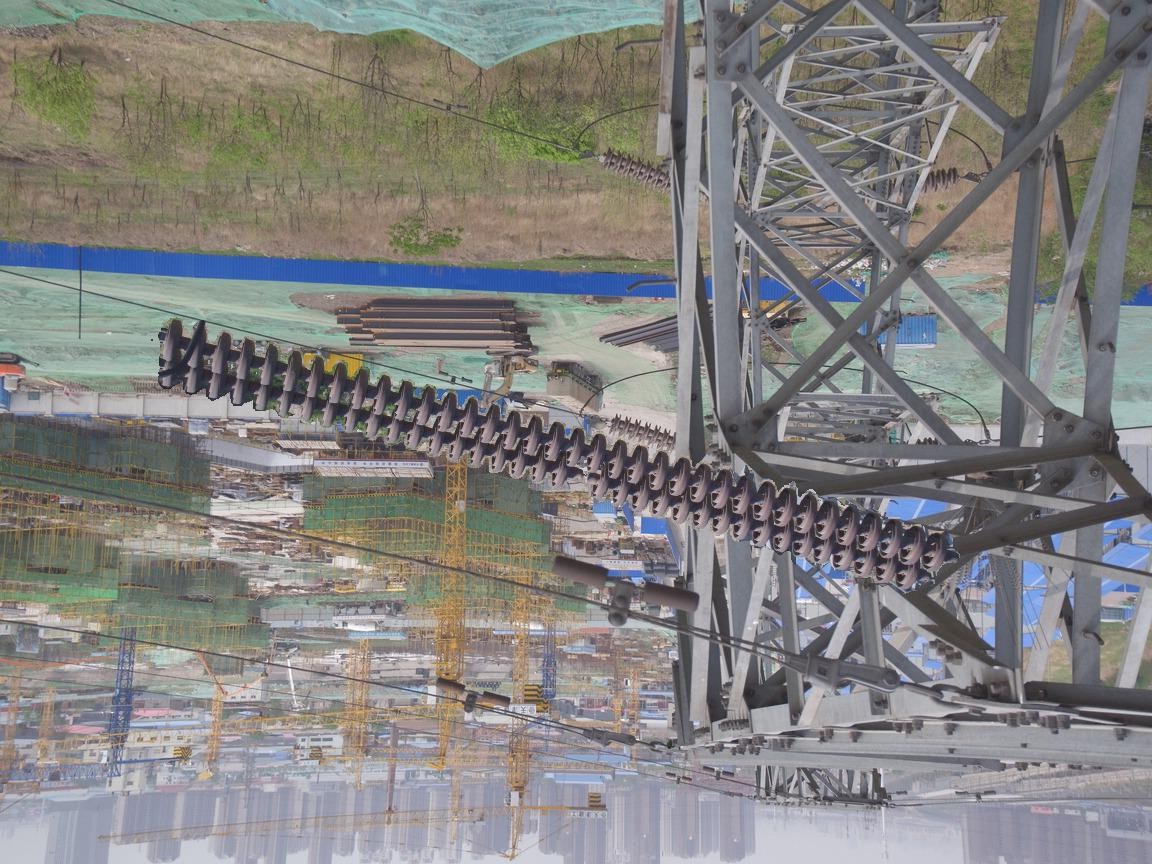insulator: (152, 310, 961, 593), (598, 144, 673, 193), (607, 409, 679, 453), (918, 161, 961, 197)
insulator_stringdrop: (549, 452, 611, 502)
